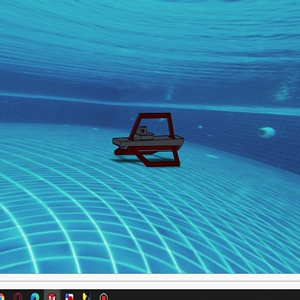submarine: (112, 111, 183, 169)
